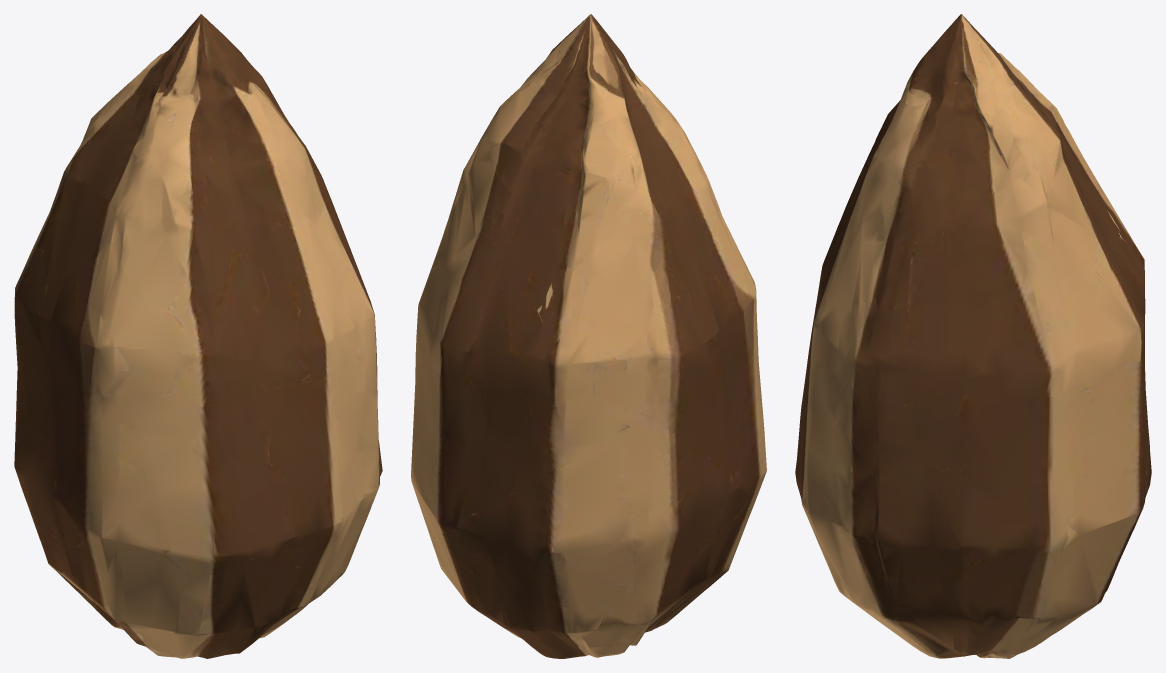
The model's file is seed.glb.
3 renders of one model, left to right at view 1: azimuth 30°, elevation 25°; view 2: azimuth 150°, elevation 25°; view 3: azimuth 270°, elevation 25°, orthographic.
Size of the model in its own units: 0.9219 by 1.9 by 0.9656.
1 material, 1 textured.
